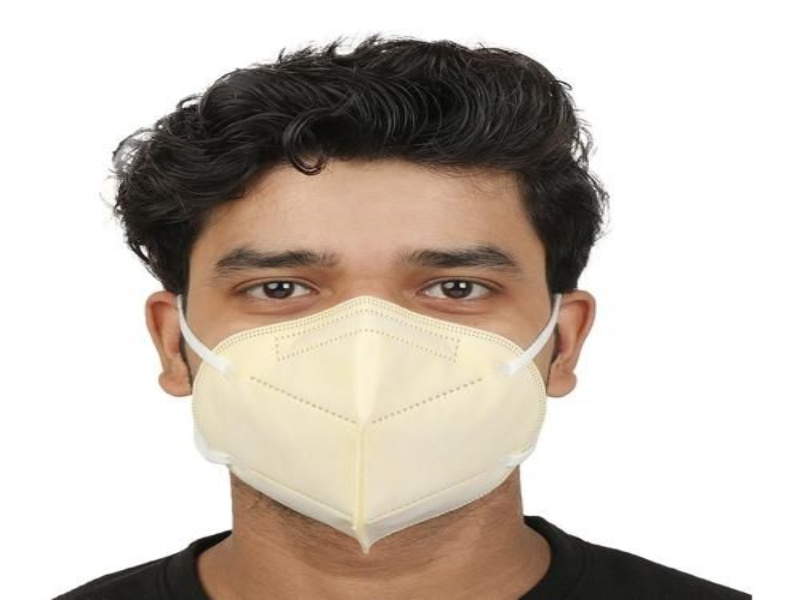mask: (189, 295, 555, 557)
